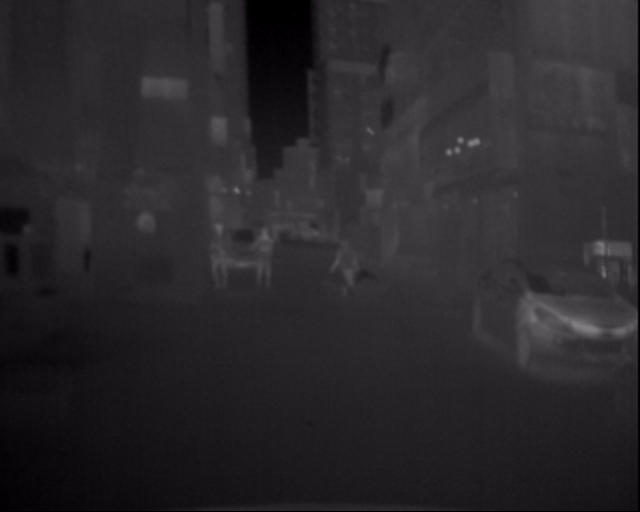person: (205, 222, 234, 296), (332, 233, 362, 299), (256, 220, 277, 295)
